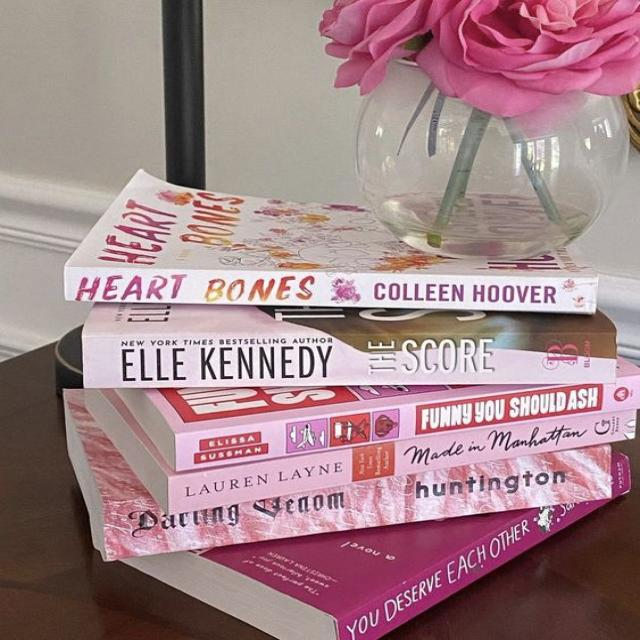book: (104, 443, 611, 561), (339, 458, 632, 640), (169, 410, 637, 514), (176, 374, 639, 472), (81, 335, 620, 385), (63, 267, 596, 313)
